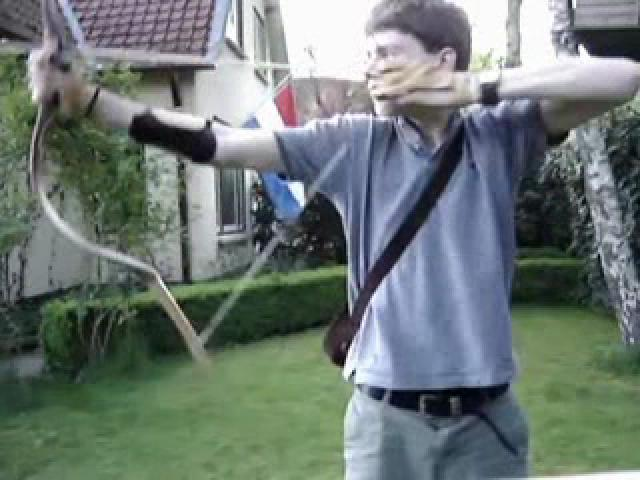P: (31, 7, 636, 475)
